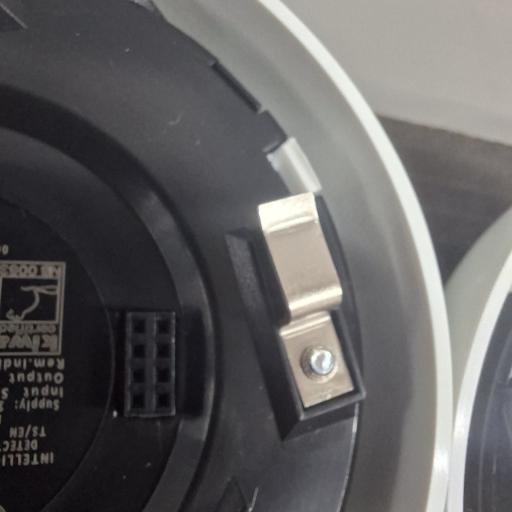yaysiz: (255, 190, 362, 411)
